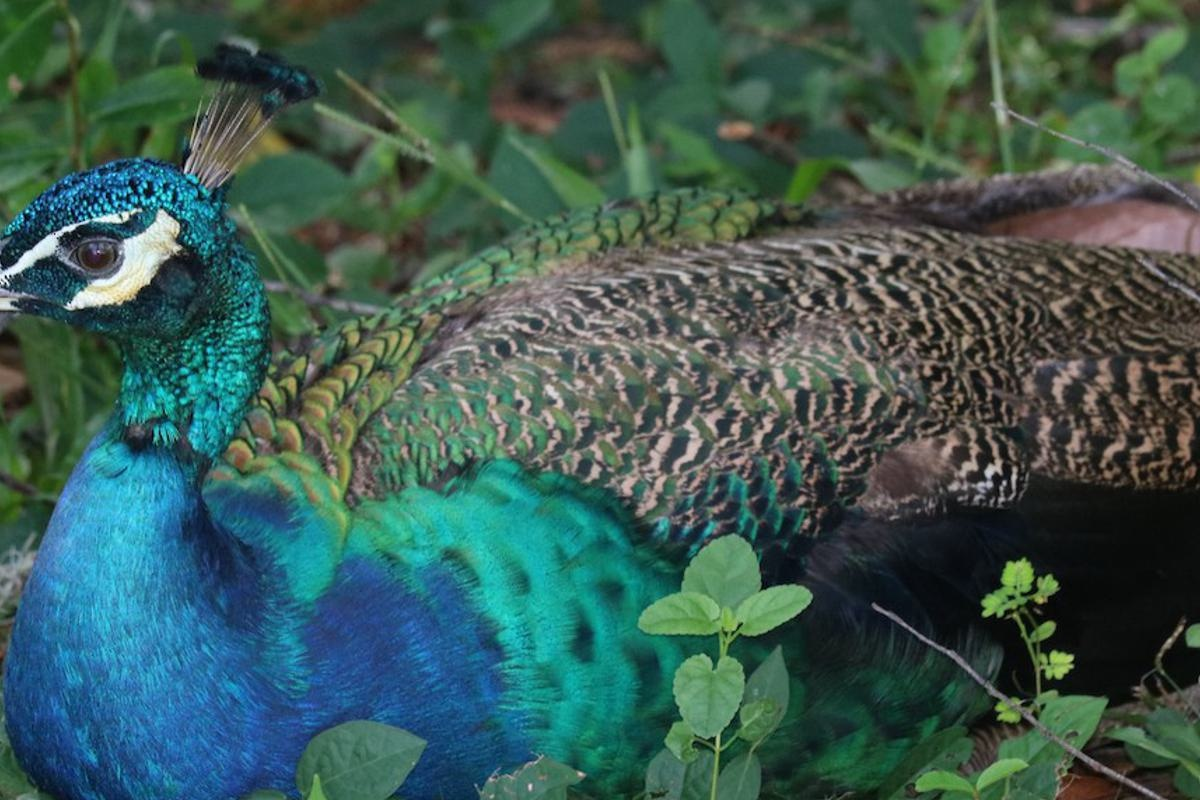peacock: (9, 126, 1164, 715)
